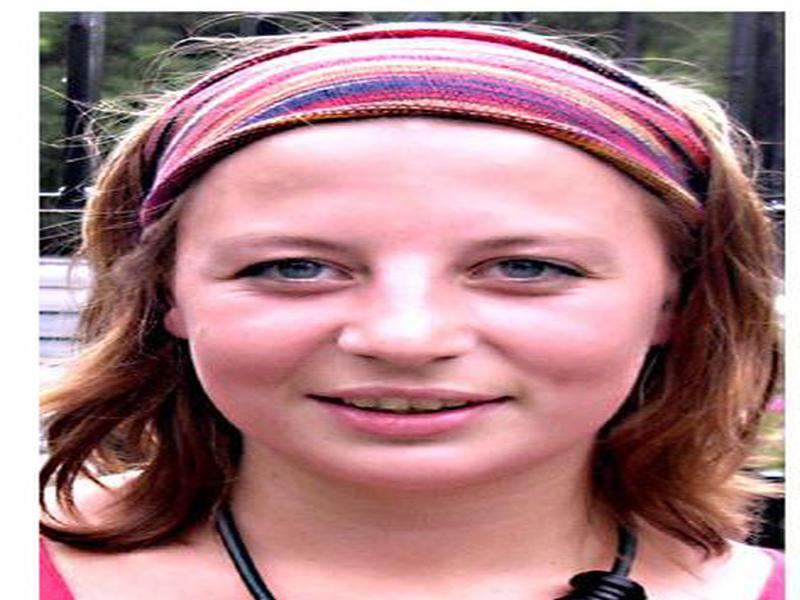without_mask: (178, 167, 657, 487)
